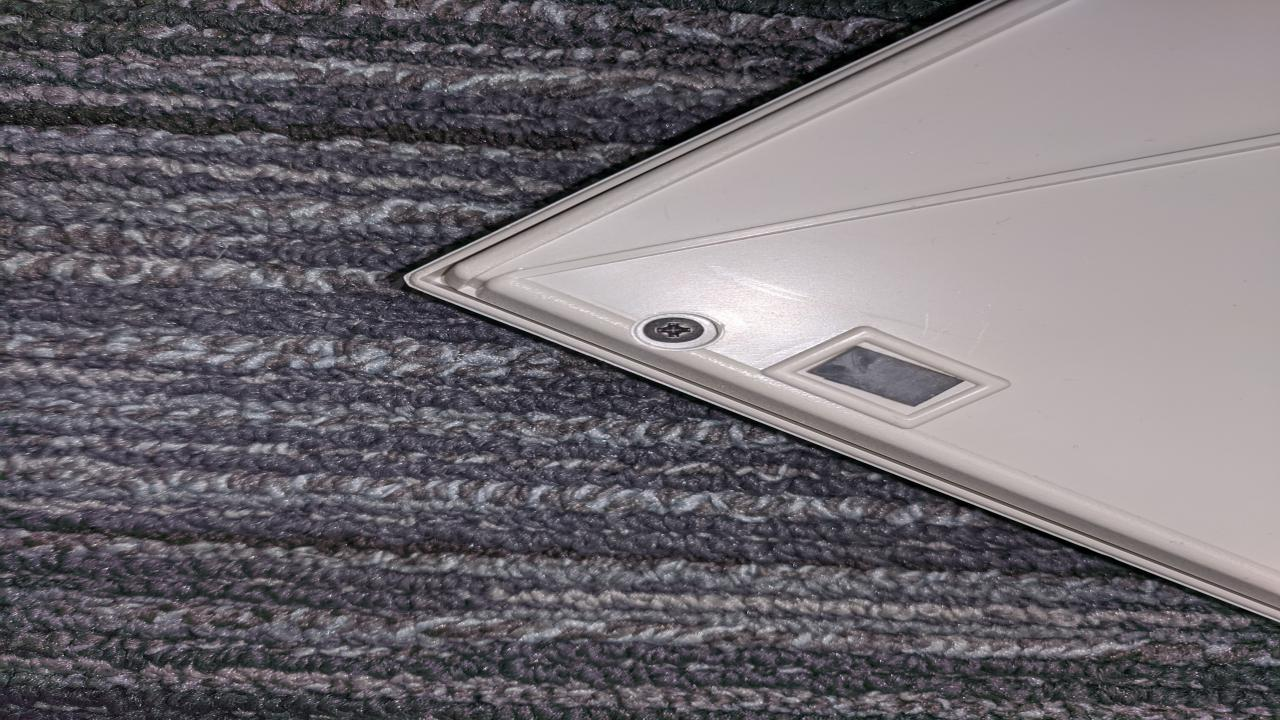CRS: (644, 315, 706, 344)
